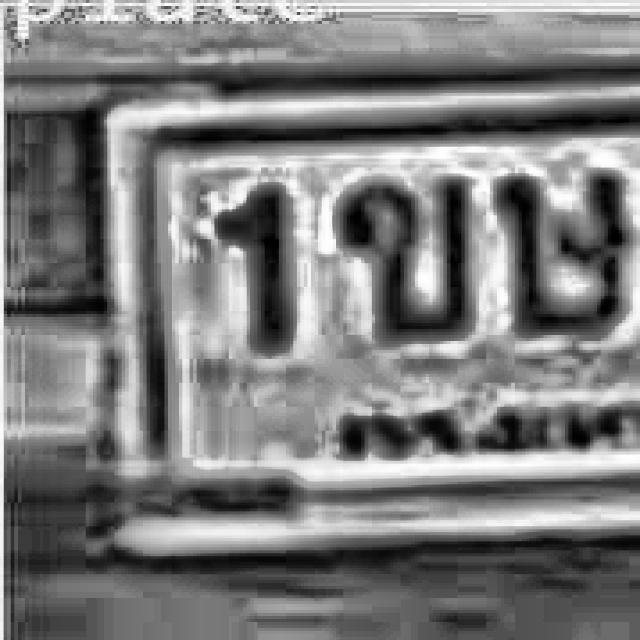license-plate: (71, 80, 640, 566)
